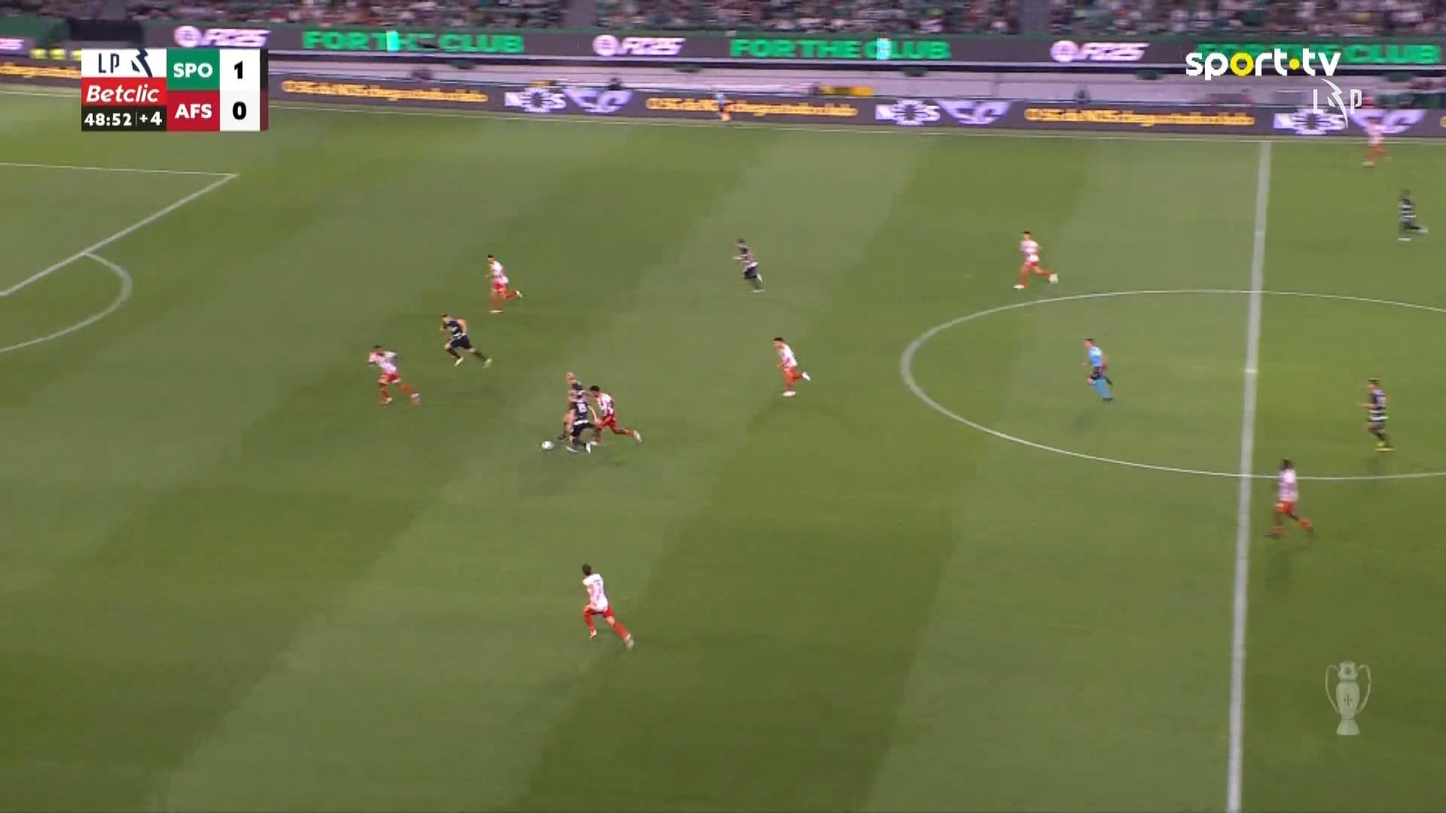ball: (541, 440, 553, 450)
player: (579, 562, 635, 650), (1264, 457, 1314, 538), (585, 383, 642, 446), (366, 343, 420, 406), (438, 312, 493, 369), (1012, 229, 1058, 290), (1361, 377, 1395, 450), (771, 336, 811, 397), (484, 252, 523, 313), (564, 395, 601, 453), (558, 370, 584, 441), (732, 237, 764, 293), (1396, 188, 1428, 242), (1360, 117, 1389, 166)
referee: (1081, 336, 1114, 401), (712, 84, 731, 125)
